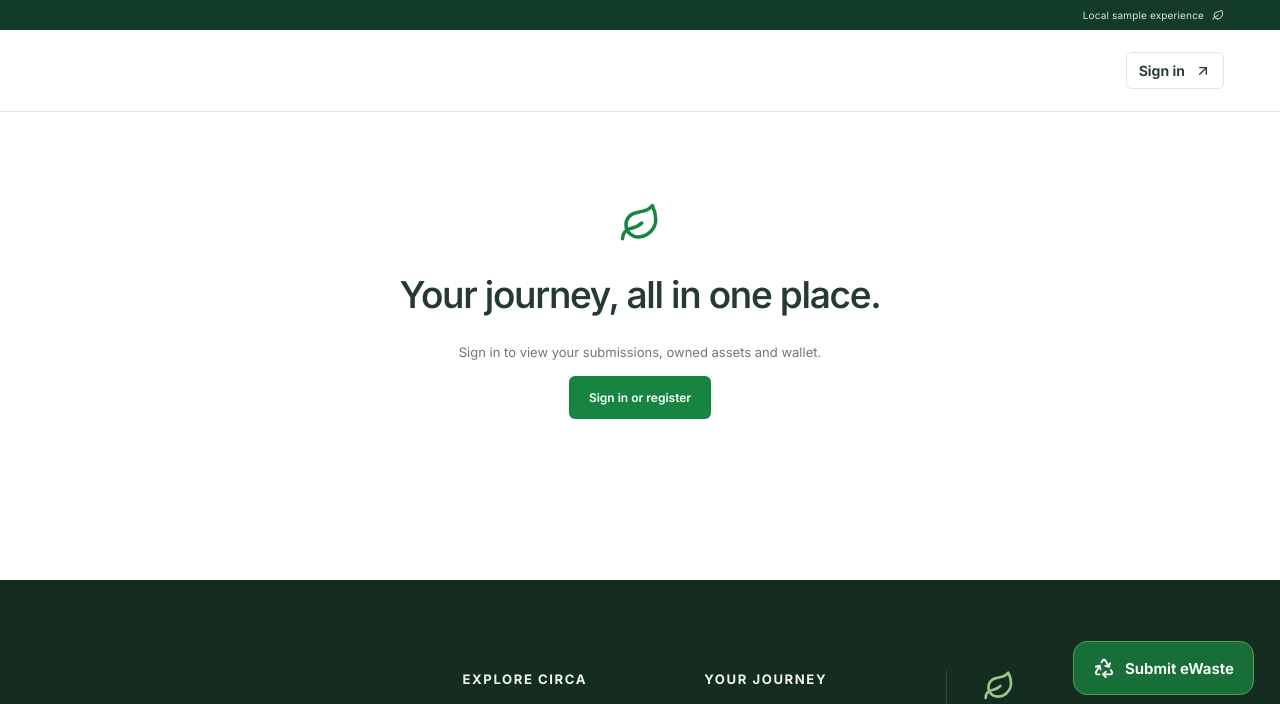
Test case: retains website submission intent through sign-in from a secondary page
Click the 1st button "Submit eWaste": (1164, 668) [1073,641,1254,695]
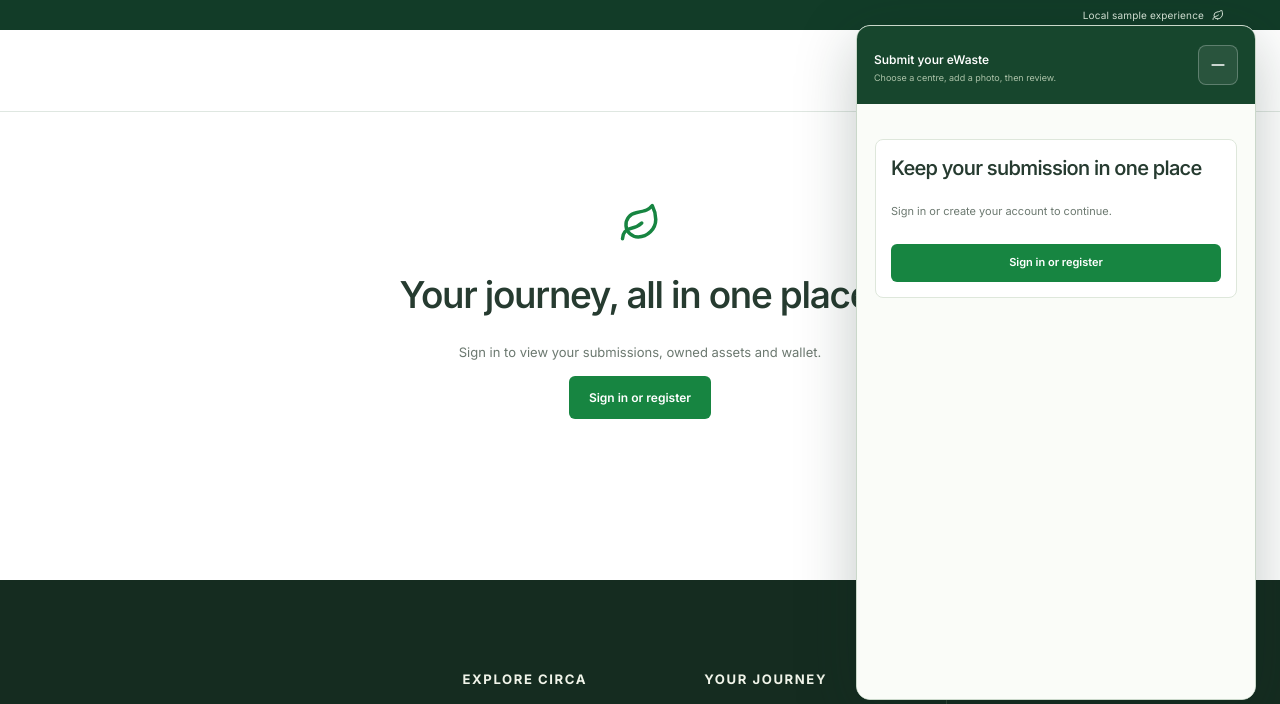
Click the button "Sign in or register" below "Keep your submission in one place": (1056, 263) [891,244,1221,282]
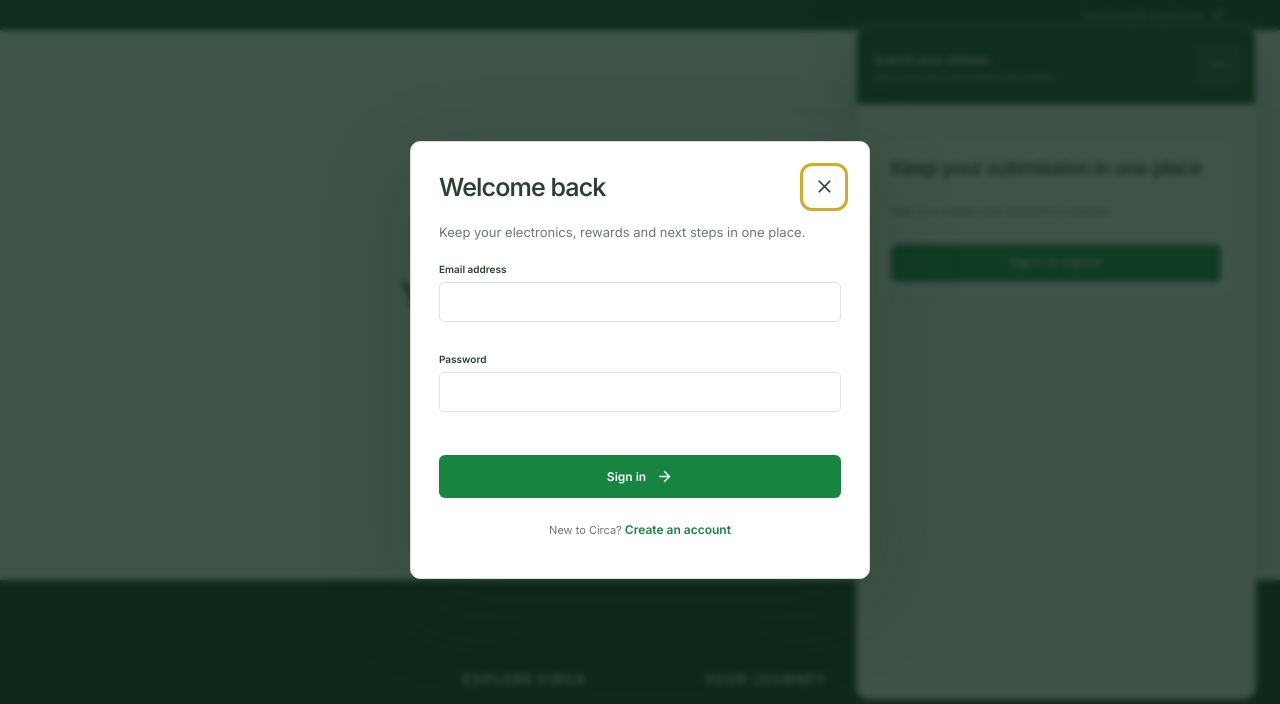
In the field labelled "Email address": (640, 302) [439,282,841,322], type "customer@example.test"
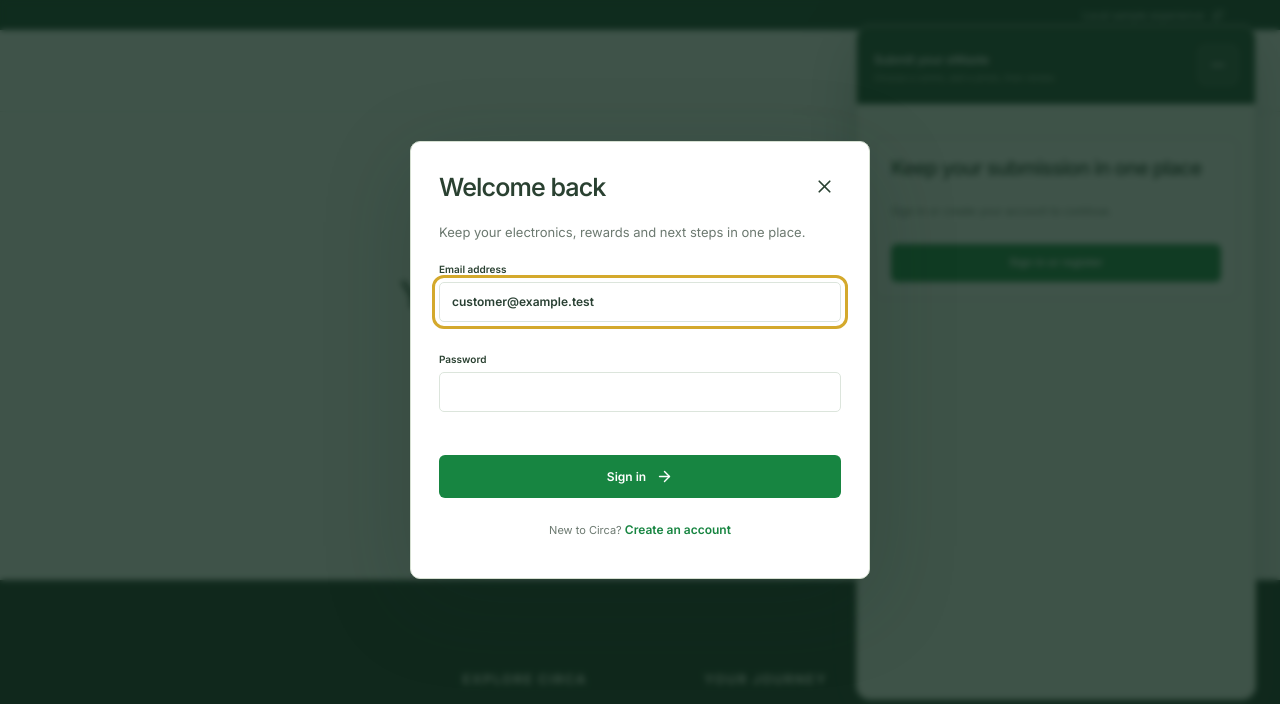
In the password field labelled "Password": (640, 392) [439,372,841,412], type "example password"
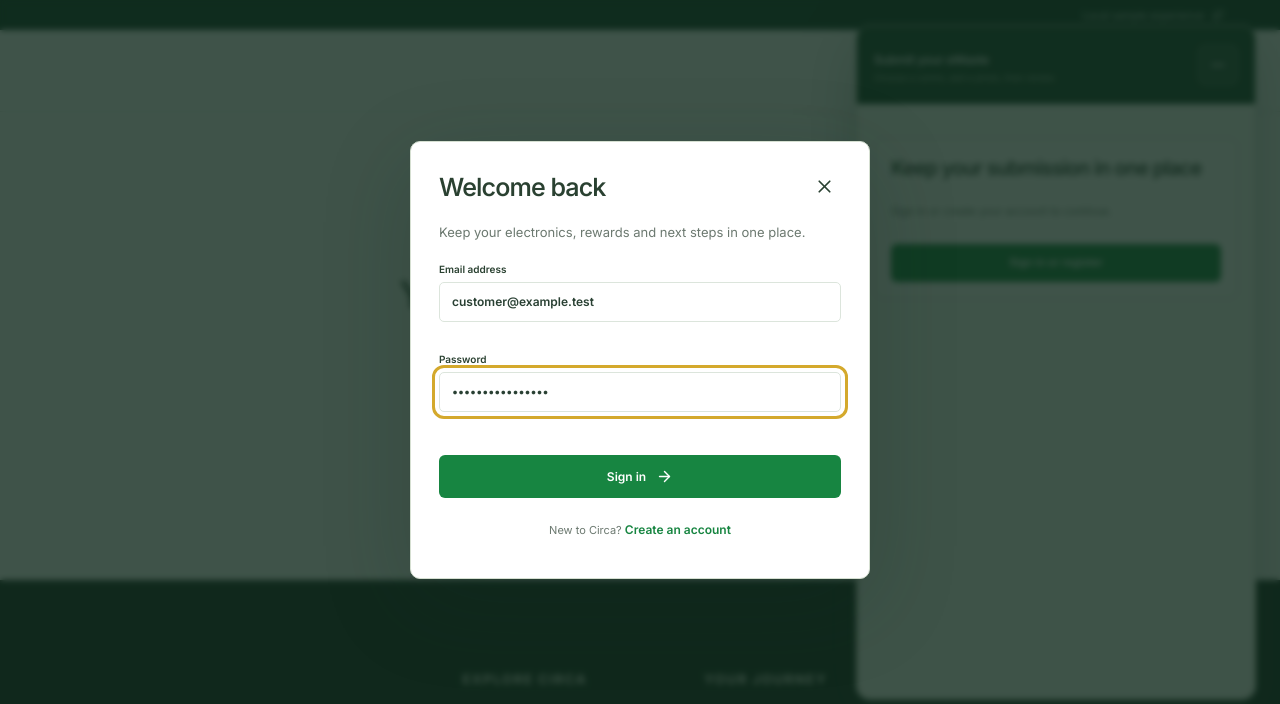
Click the button "Sign in": (640, 476) [439,455,841,498]
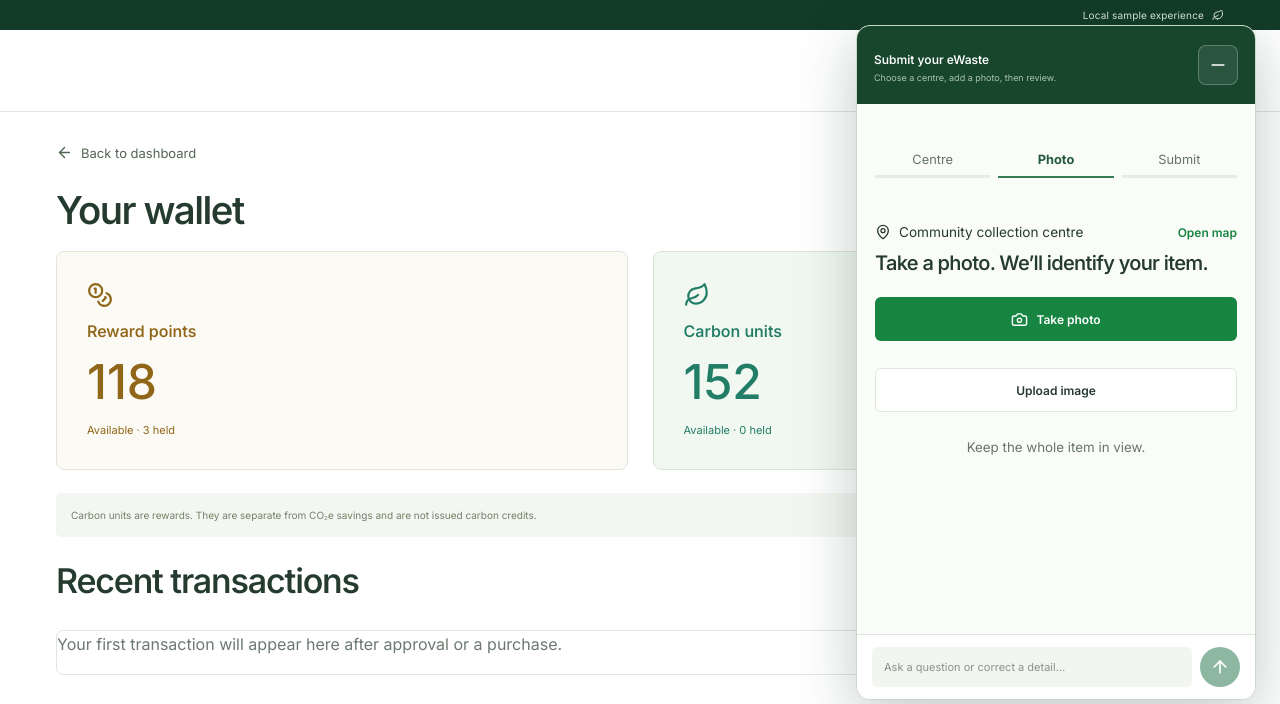
Check: the heading "Take a photo. We’ll identify your item." is shown, box [875,250,1237,277]
